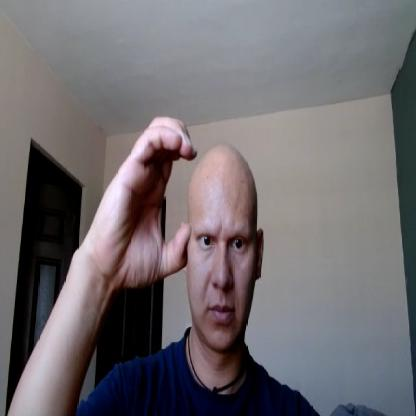C: (102, 116, 198, 288)
